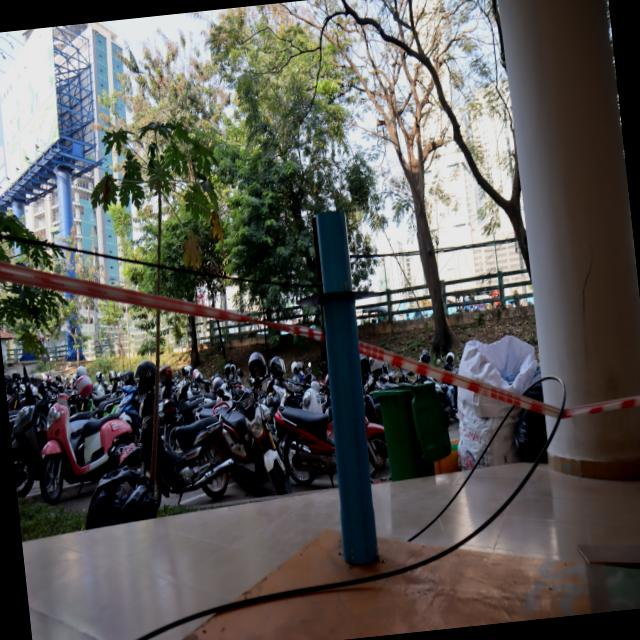pole: (288, 202, 382, 398)
